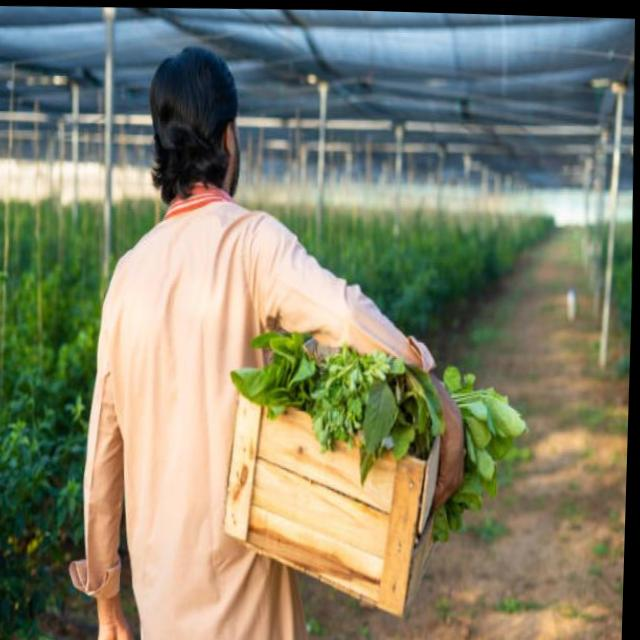no helmet: (138, 45, 254, 205)
